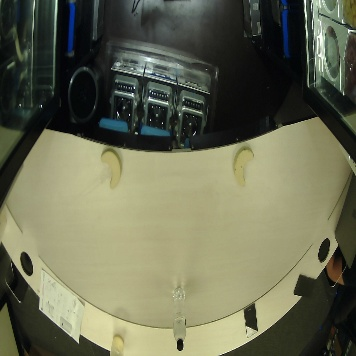full_cup: (110, 335, 125, 356)
puck: (100, 148, 122, 191), (232, 145, 254, 188)
